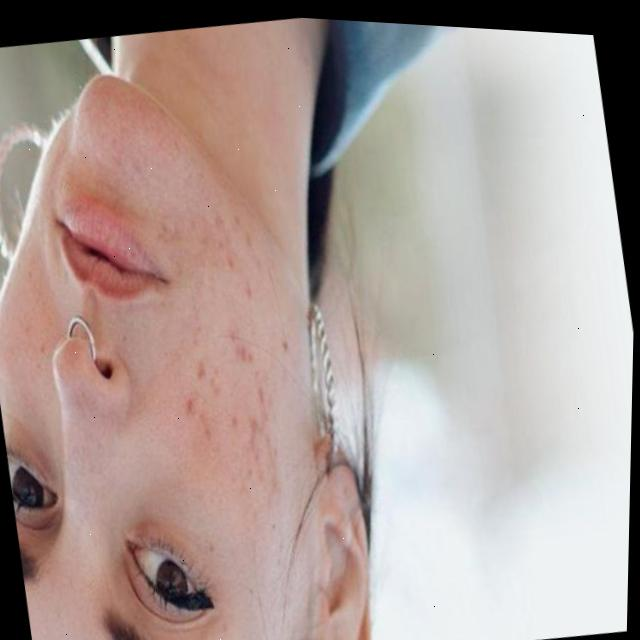Acne: (143, 201, 311, 519)
